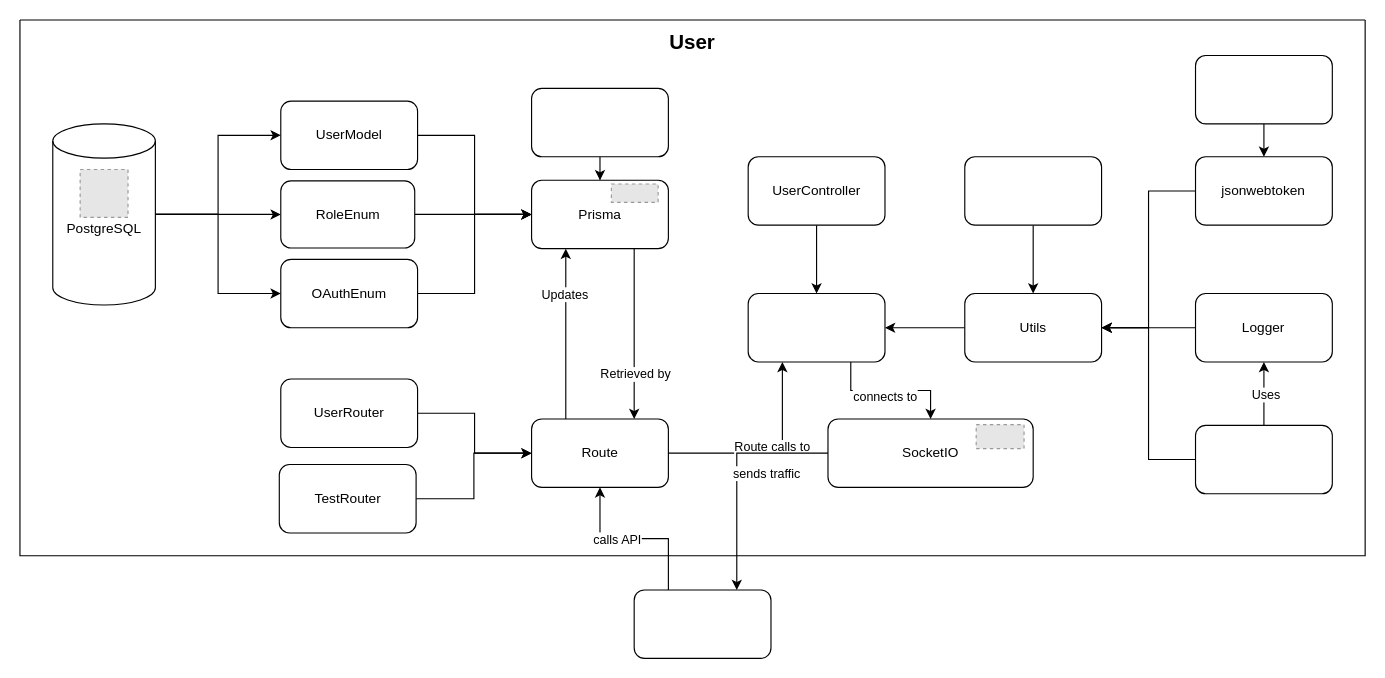
This 1385x678 diagram has some shape labels left out. Grey dashed boxes stand in for pictures. The shapes that lost their labels are listed below. From the top down, each one's centre as x and y in pixels, then its label:
At (x=1263, y=89): "JwtPayload".
At (x=599, y=122): "Bcrypt".
At (x=1033, y=190): "Config".
At (x=816, y=327): "Controller".
At (x=1263, y=459): "Middleware".
At (x=702, y=623): "Frontend".
